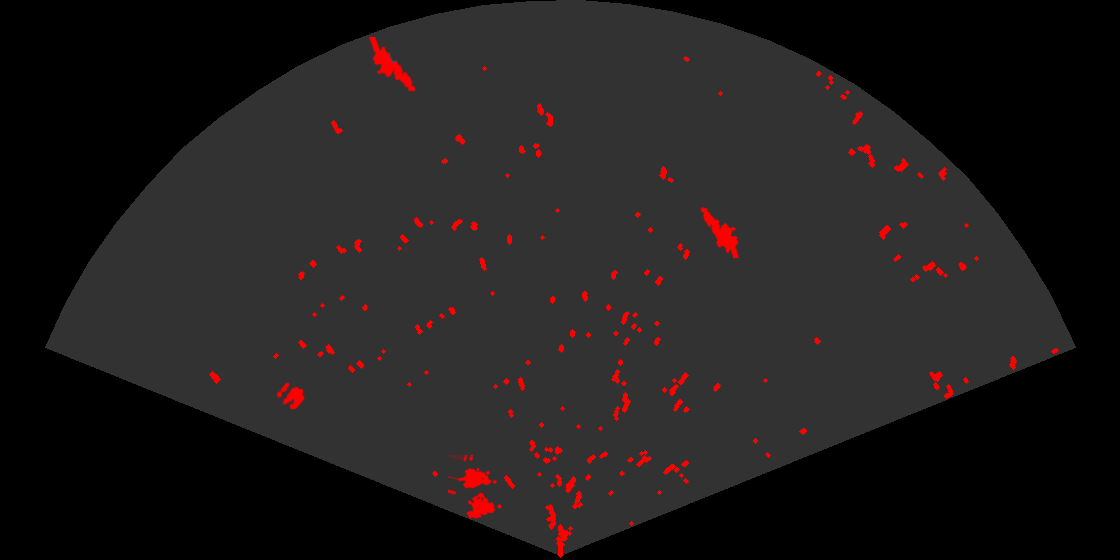ball: (275, 381, 306, 411)
cage: (448, 455, 499, 520)
frogman: (367, 37, 419, 103), (699, 205, 741, 258)
